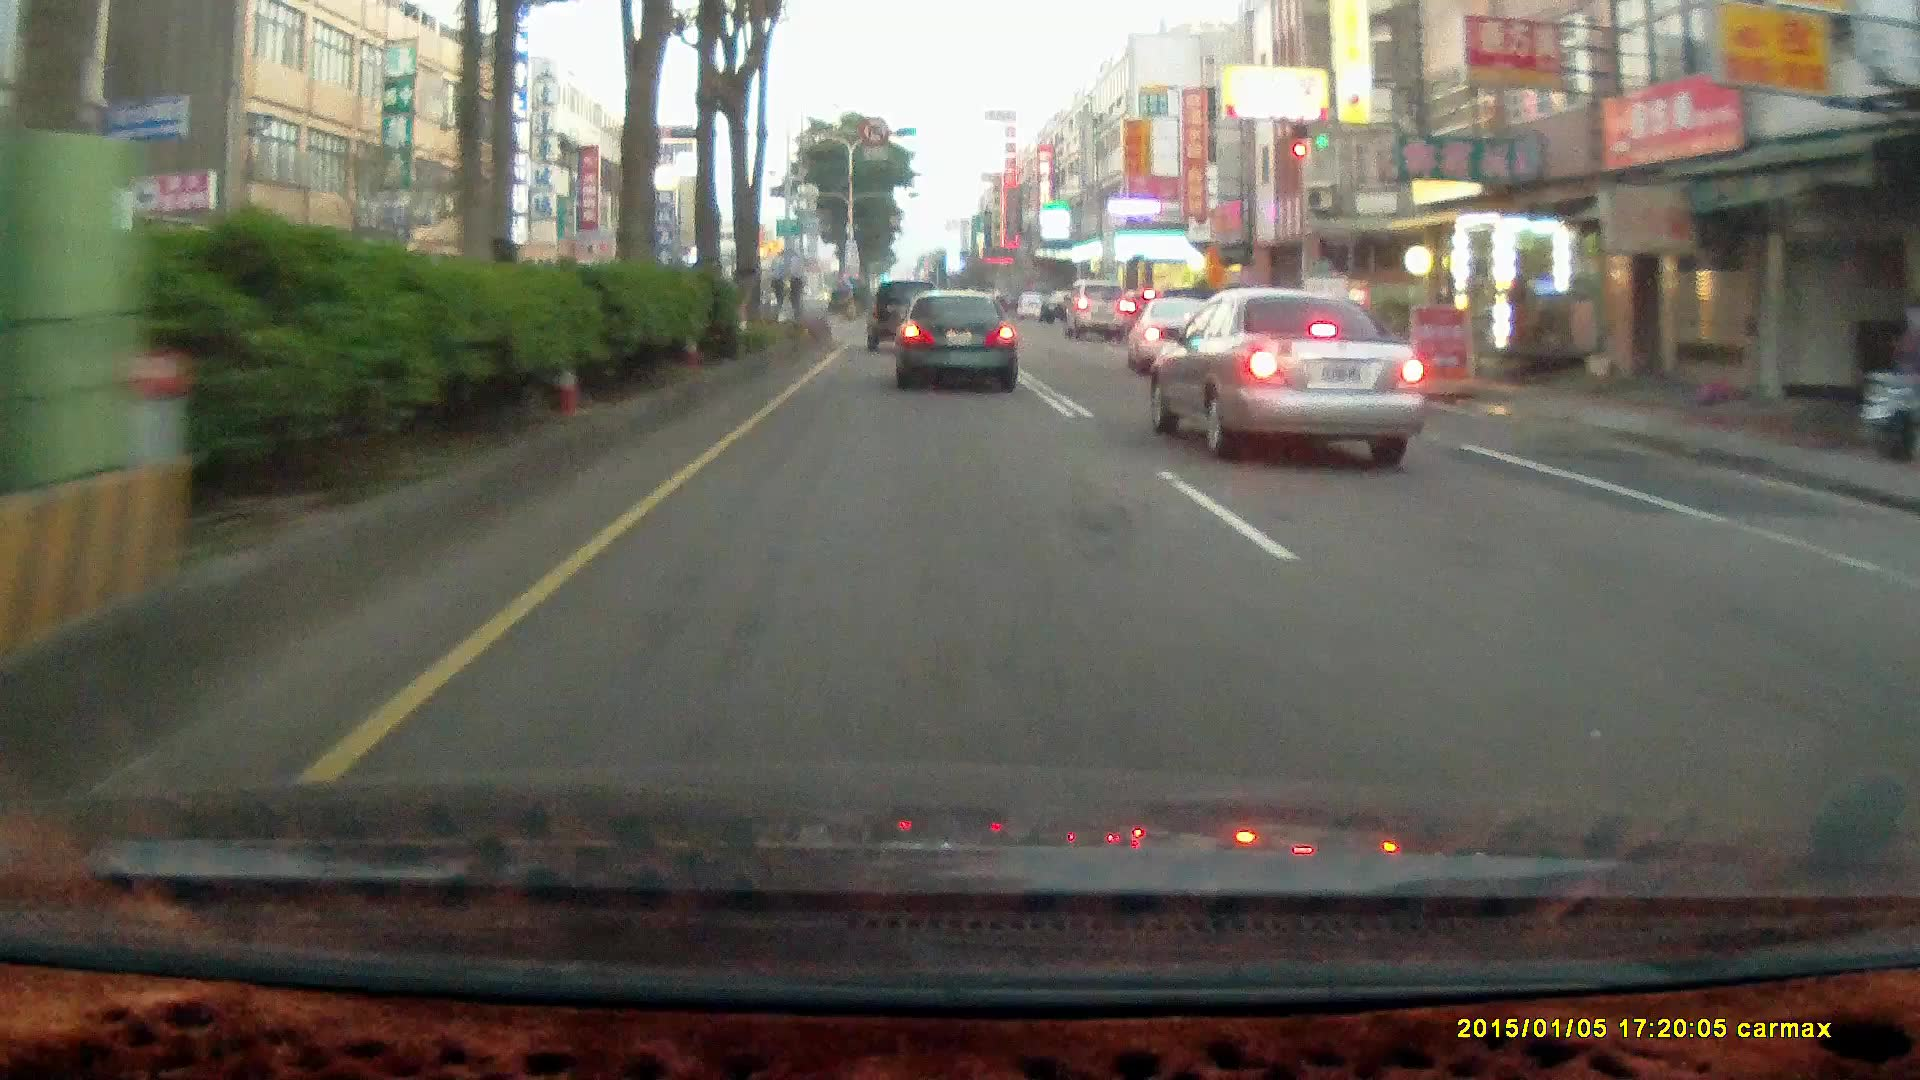vehicle: (1147, 284, 1422, 467), (1154, 286, 1427, 464), (895, 290, 1025, 400), (894, 289, 1017, 392), (864, 278, 944, 355), (865, 278, 943, 351), (1064, 280, 1131, 343), (1064, 280, 1131, 342), (1040, 287, 1089, 322), (1019, 291, 1042, 318)
